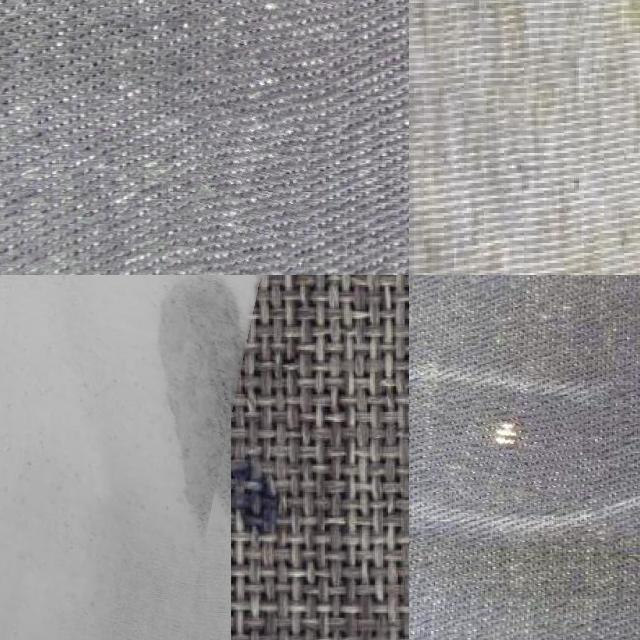Thread_other: (0, 275, 258, 640)
stains: (204, 0, 371, 275), (434, 394, 576, 498)
